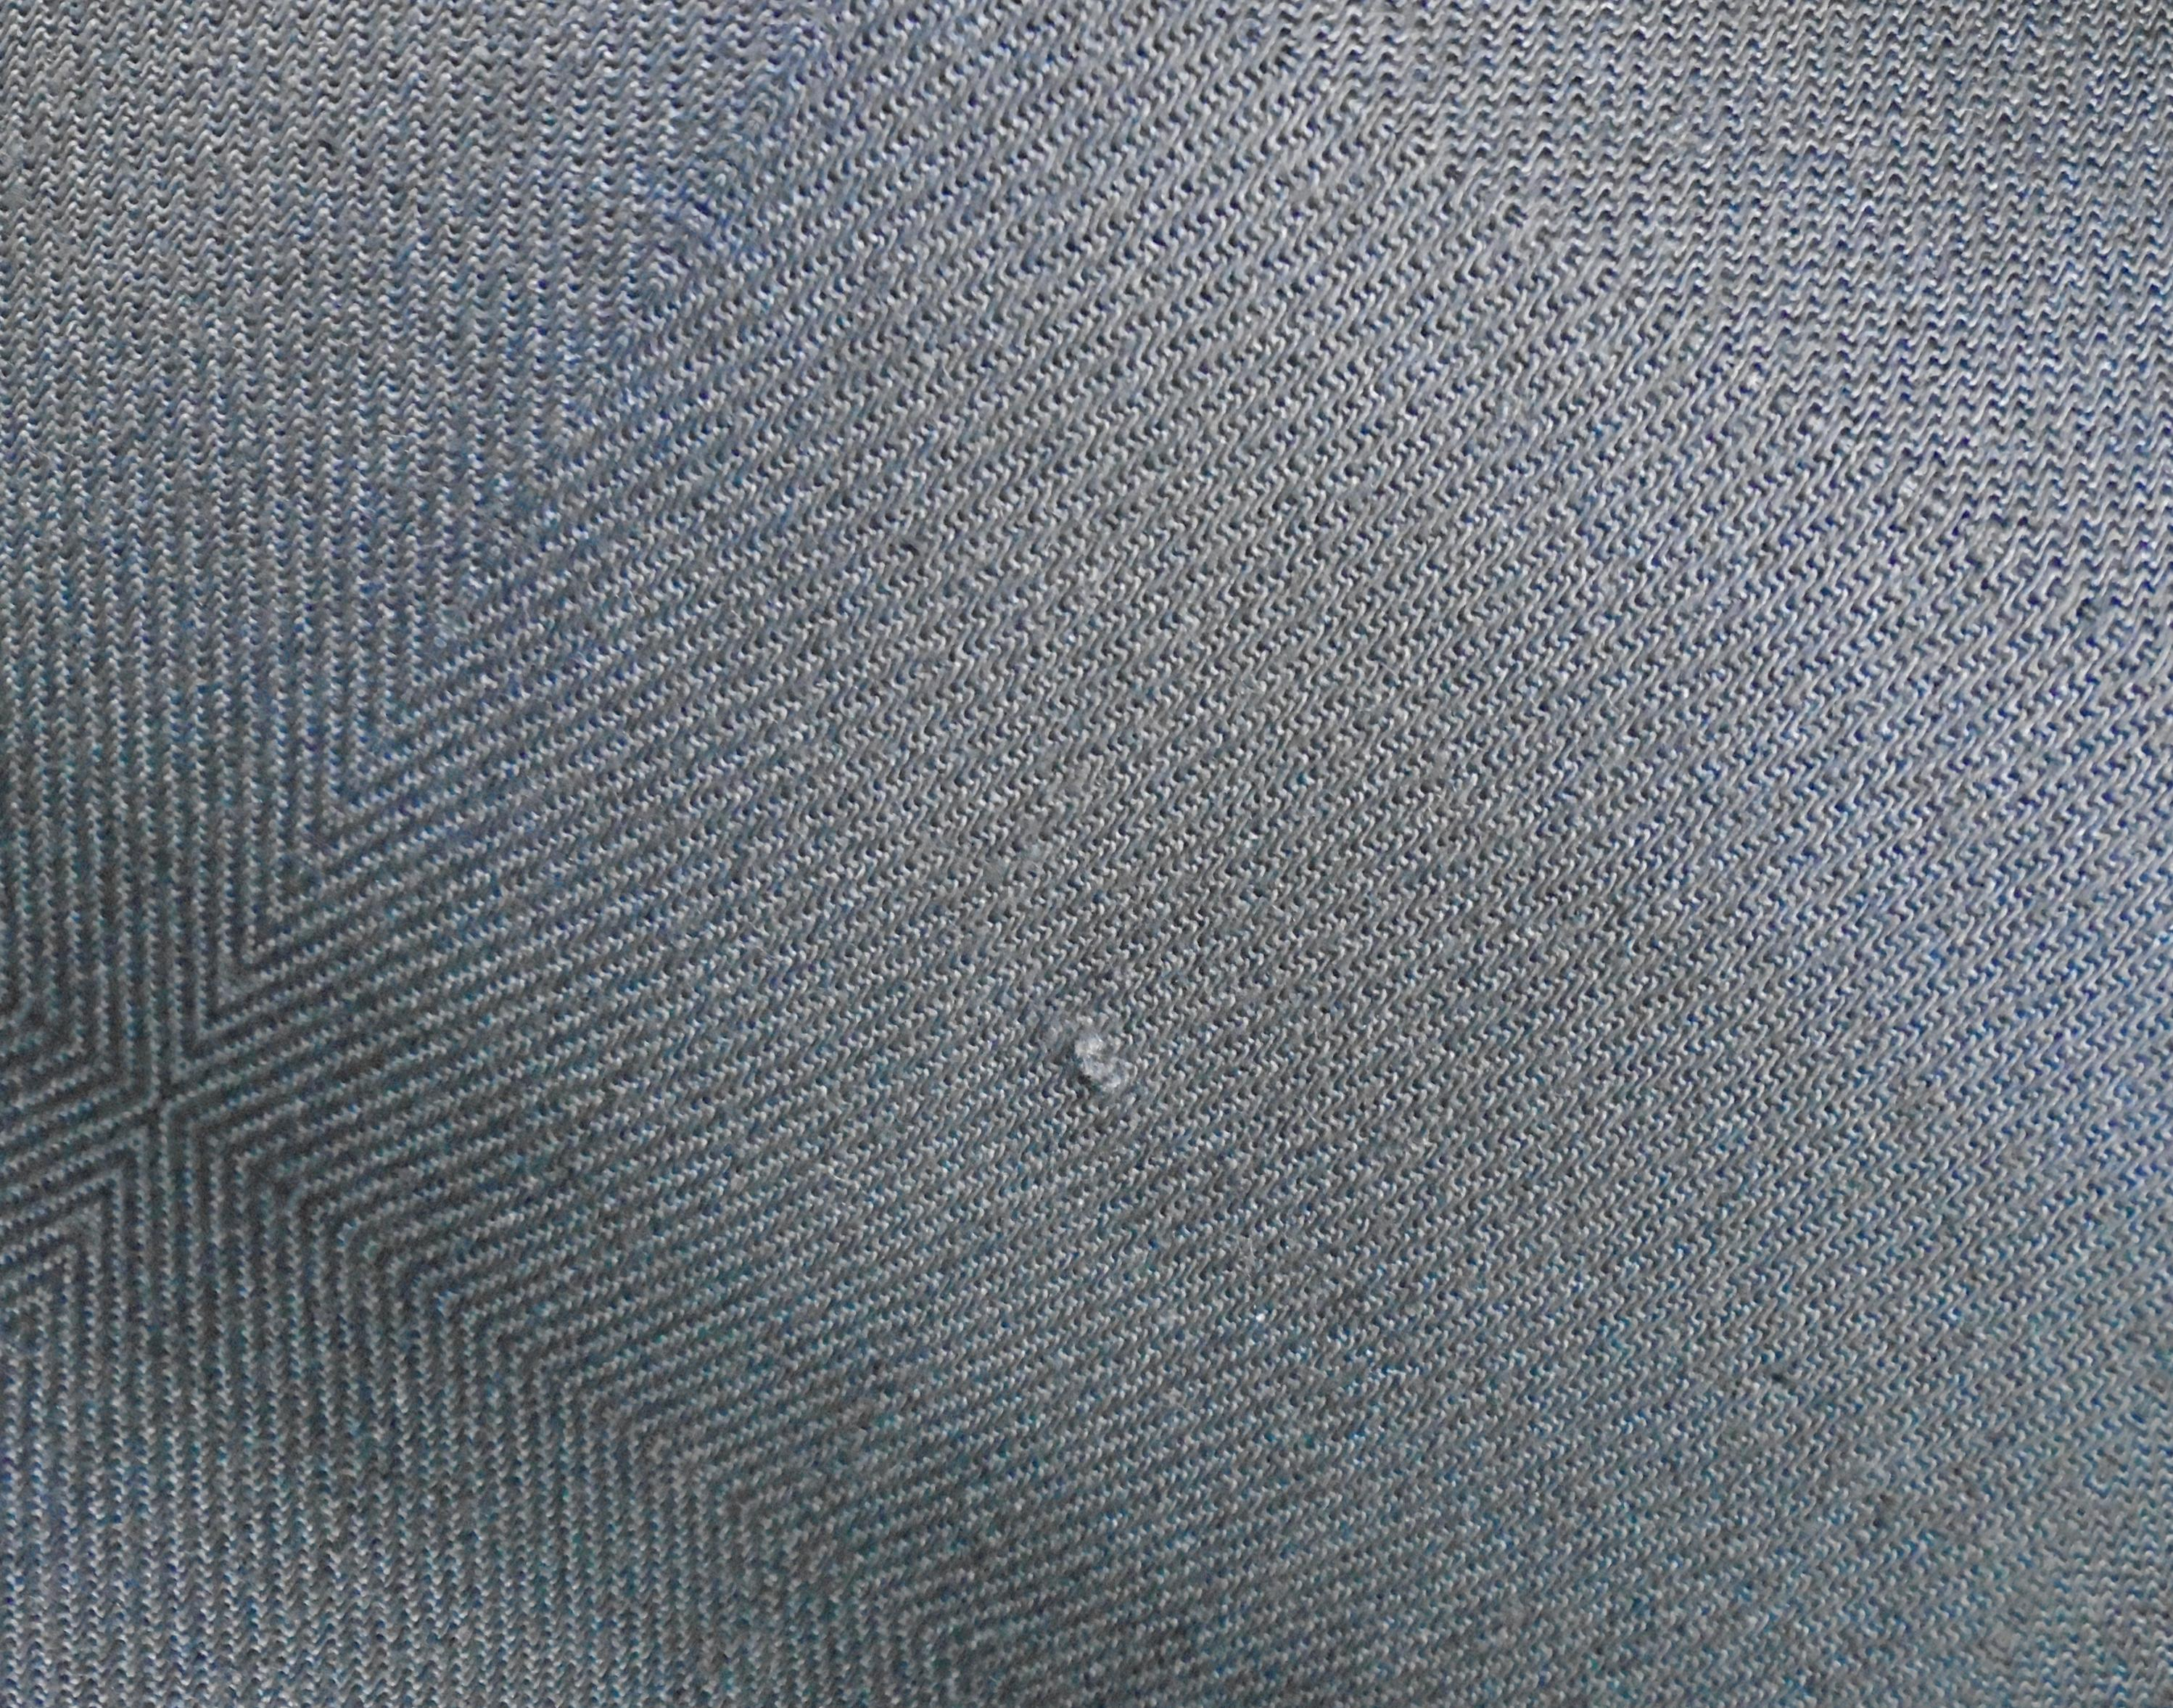knot: (1014, 985, 1176, 1117)
